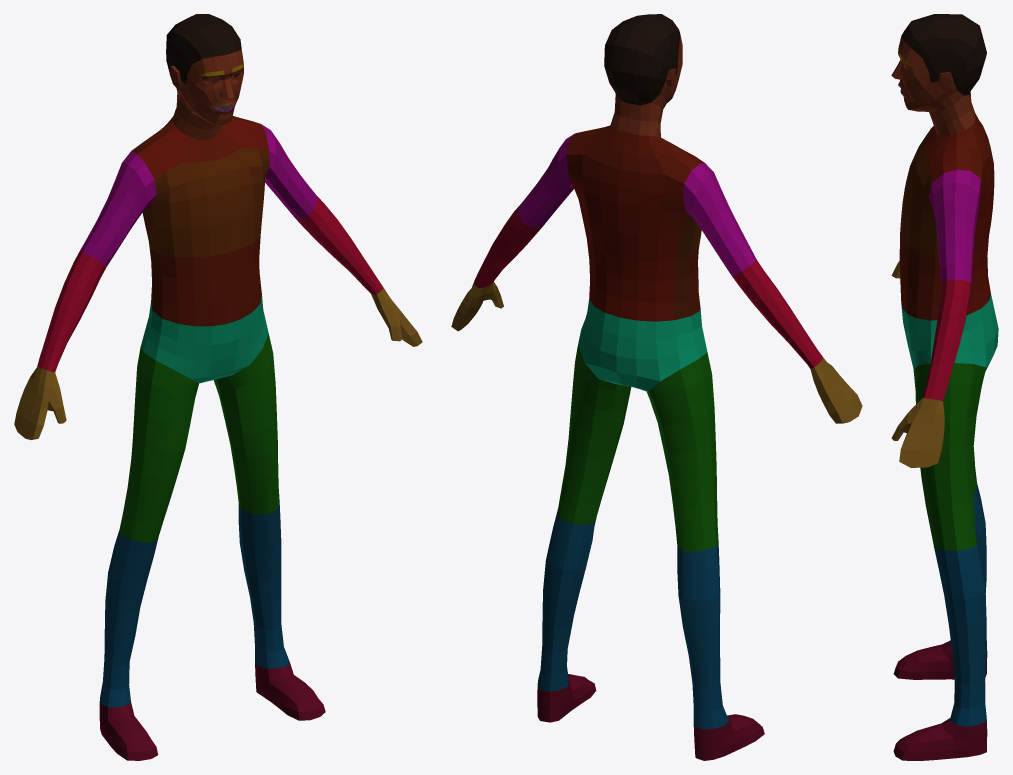
File: Clothing_Cage_Template.fbx
3 renders of one model, left to right at view 1: azimuth 30°, elevation 25°; view 2: azimuth 150°, elevation 25°; view 3: azimuth 270°, elevation 25°, orthographic.
Parts seen in each view (by area): view 1: YourClothingName_InnerCage; view 2: YourClothingName_InnerCage; view 3: YourClothingName_InnerCage.
Boxes of the visible parts, <box> form: YourClothingName_InnerCage: <box>14,14,422,760</box>; YourClothingName_InnerCage: <box>451,14,862,760</box>; YourClothingName_InnerCage: <box>891,14,998,760</box>.
Size of the model in its own units: 3.23 by 5.5 by 0.7676.
